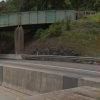Bridge: (3, 2, 89, 34)
